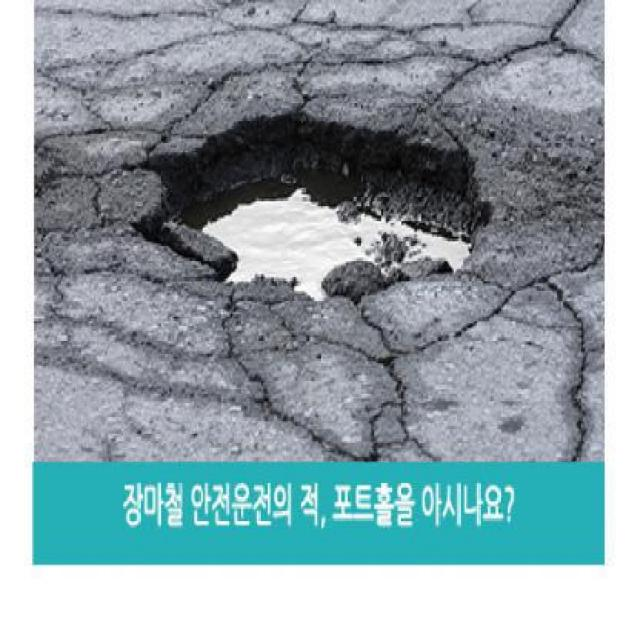Pothole: (124, 103, 498, 319)
